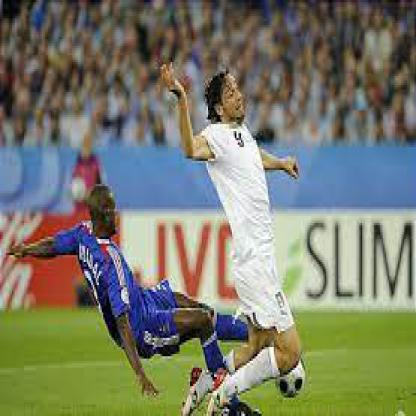Fall_Down: (10, 182, 277, 414)
